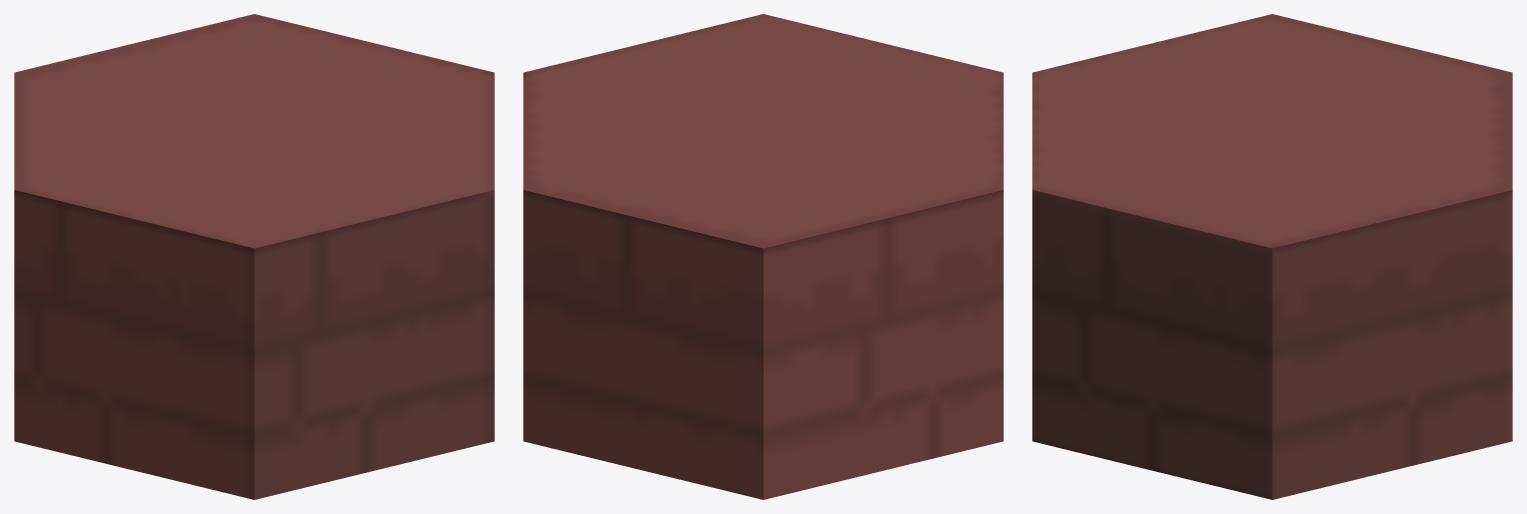
File: wallBrick.dae
3 views of the same model, side by side, from view 1: azimuth 30°, elevation 25°; view 2: azimuth 150°, elevation 25°; view 3: azimuth 270°, elevation 25° (orthographic).
Visible parts, largest first — view 1: wallBrick; view 2: wallBrick; view 3: wallBrick.
Part boxes in pixels (x1=…): wallBrick: x1=14, y1=14, x2=494, y2=499; wallBrick: x1=523, y1=14, x2=1003, y2=499; wallBrick: x1=1032, y1=14, x2=1512, y2=499.
Size of the model in its own units: 100 by 50 by 86.6.
1 material, 1 textured.
